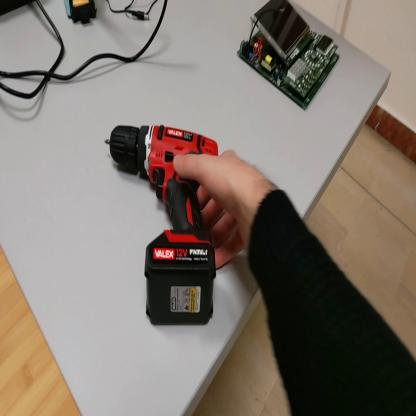electric screwdriver: (106, 124, 219, 326)
hand: (173, 147, 269, 266)
low voltage board: (238, 2, 340, 114)
welder base: (63, 2, 100, 21)
